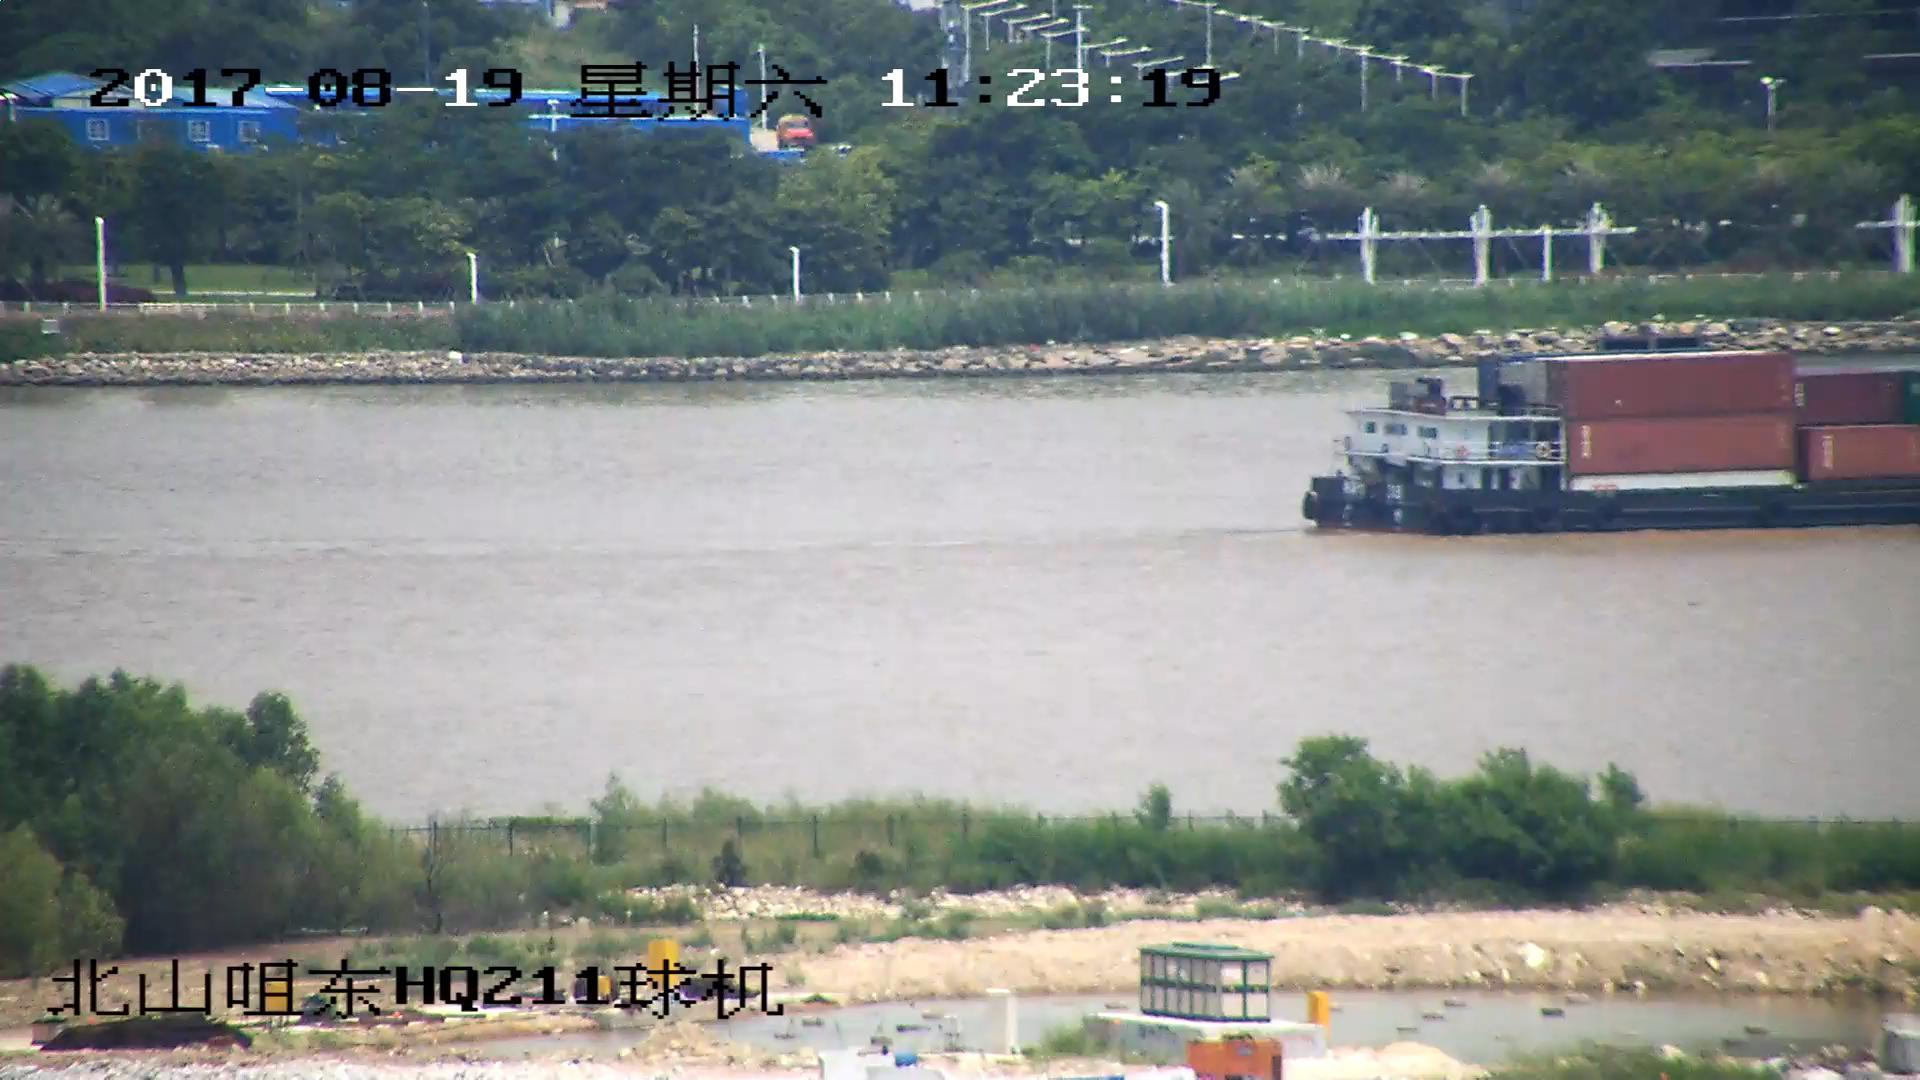Ship: (1304, 345, 1920, 533)
